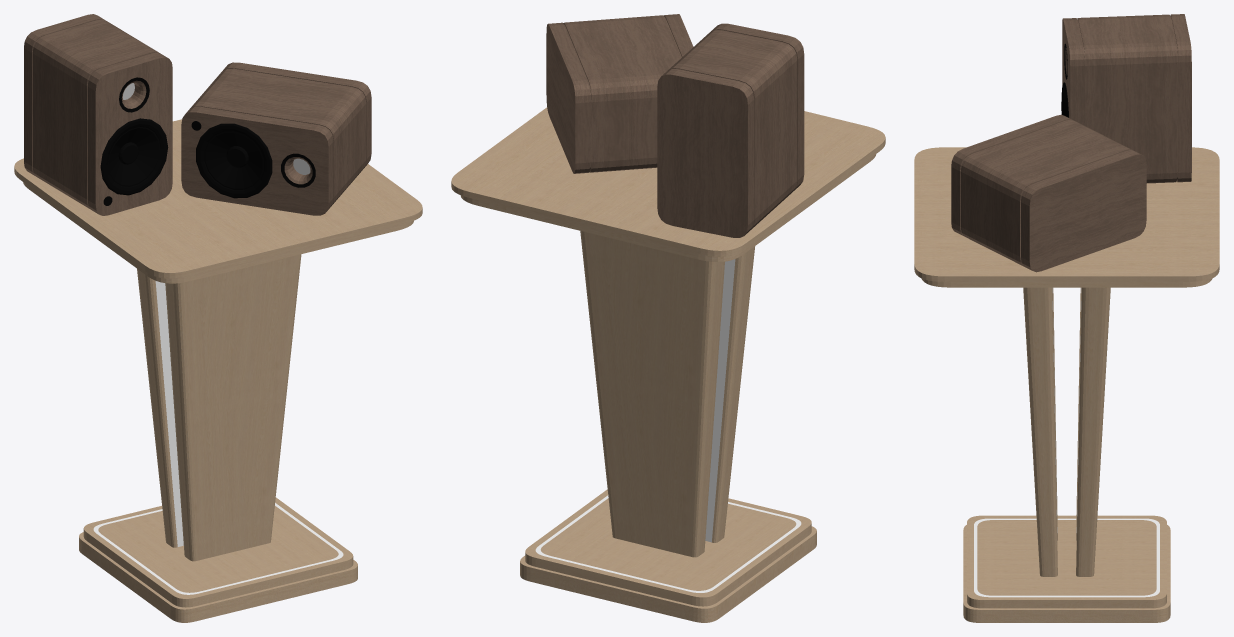
The model's file is D_Display_007.fbx.
The picture shows the model from 3 angles, left to right: view 1: azimuth 30°, elevation 25°; view 2: azimuth 150°, elevation 25°; view 3: azimuth 270°, elevation 25°; orthographic projection. The views are drawn at different scales.
Visible parts, largest first — view 1: D_Display_007; view 2: D_Display_007; view 3: D_Display_007.
Boxes of the visible parts, x1,y1,x2,y2 form: D_Display_007: (14,14,422,622); D_Display_007: (451,14,885,622); D_Display_007: (914,14,1219,622).
Bounding box in the file's own units: 0.7664 × 1.4 × 0.7664.
